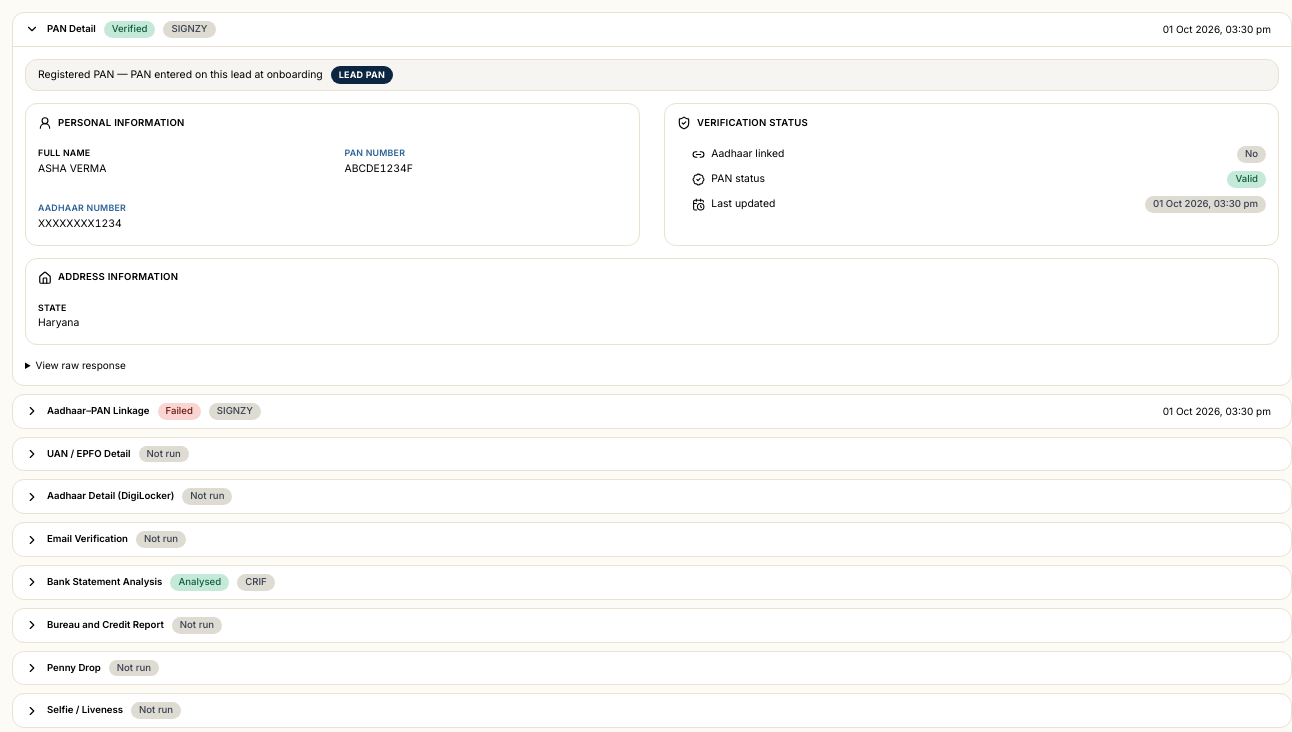
it: Third-party tab › shows the linkage as not linked when the PAN provider says so
Expected: the text "Personal Information" is shown, x1=58 y1=117 x2=185 y2=130
Click the text "Aadhaar–PAN Linkage". click: point(98, 411)
box: x1=47 y1=405 x2=150 y2=418
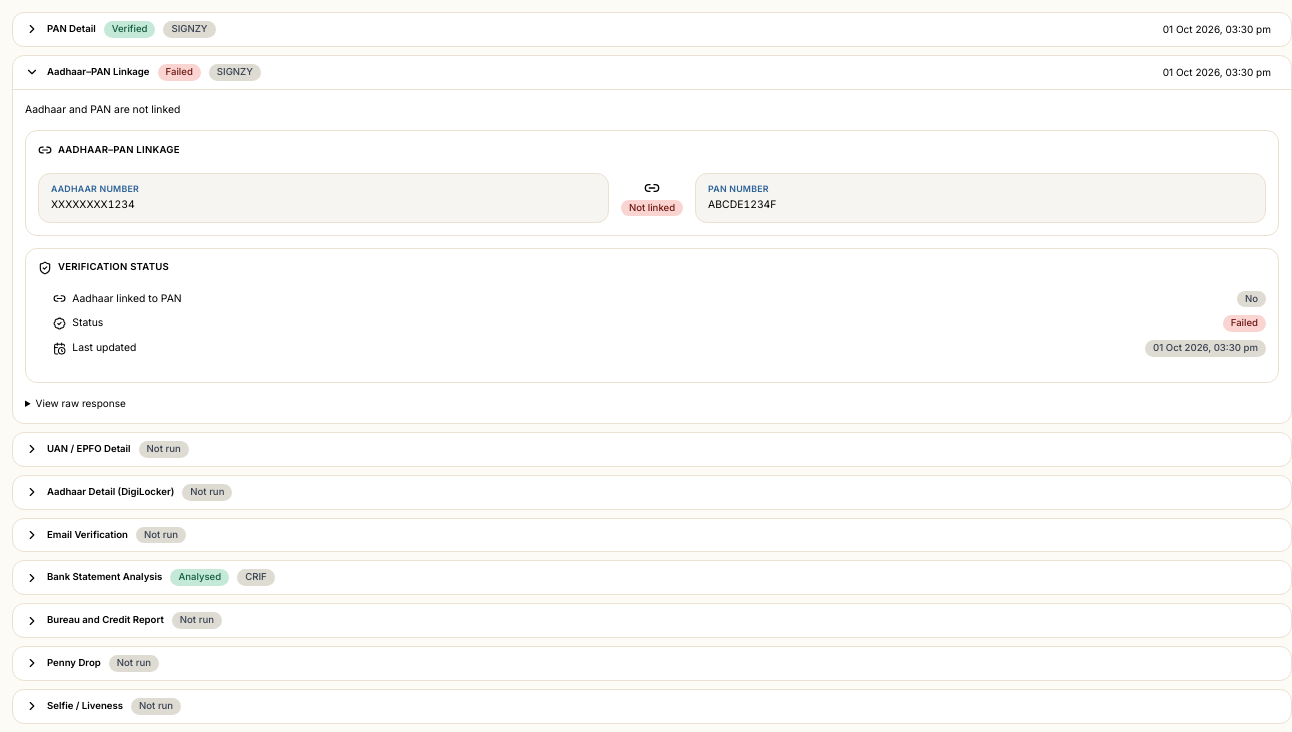
Now the text "Not linked" is shown, box x1=621 y1=200 x2=683 y2=216
